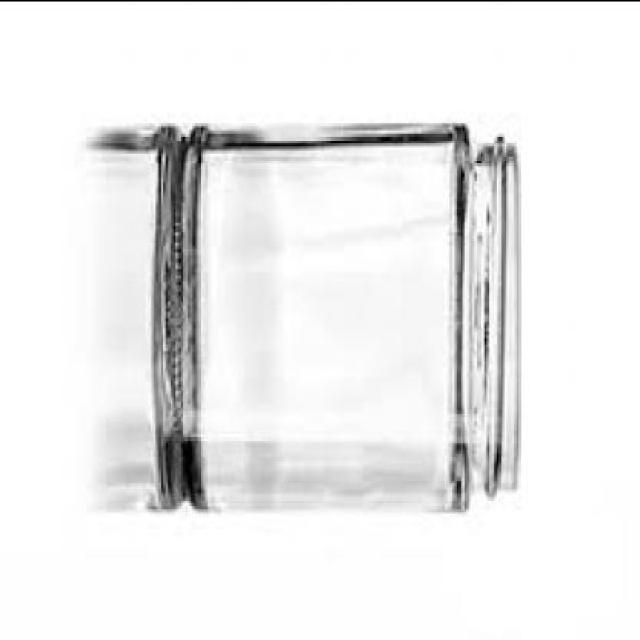GLASS: (178, 128, 522, 514)
